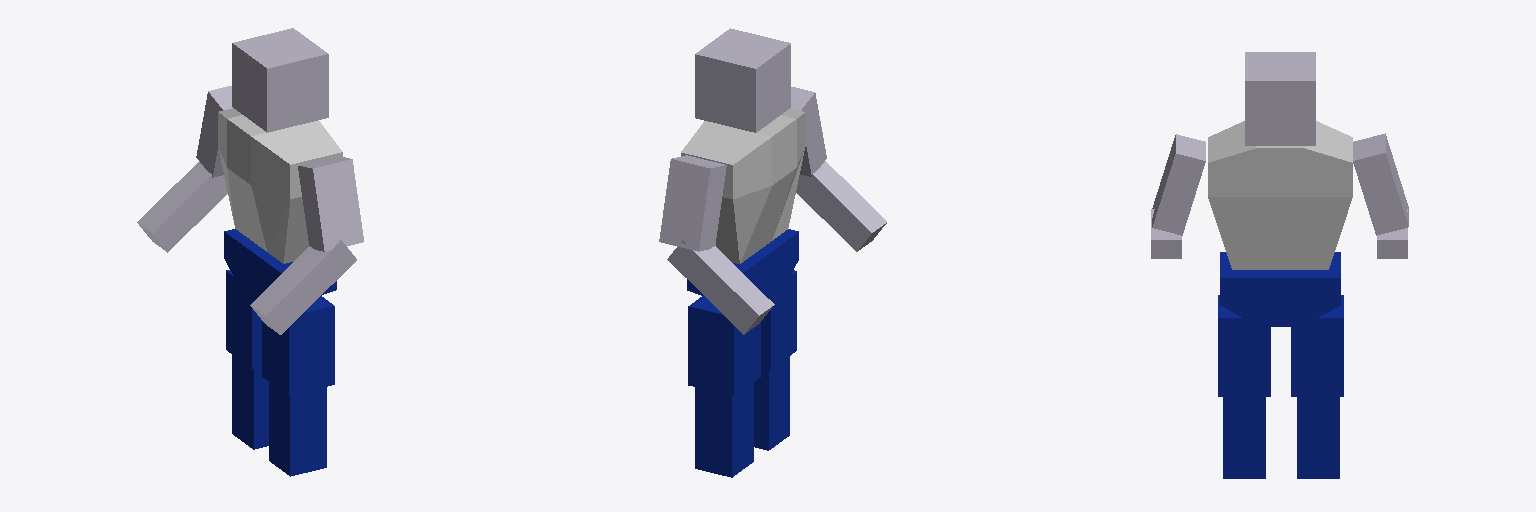
The model's file is Human.obj.
3 renders of one model, left to right at view 1: azimuth 30°, elevation 25°; view 2: azimuth 150°, elevation 25°; view 3: azimuth 270°, elevation 25°, orthographic.
Visible parts, largest first — view 1: Cube_Zombie; view 2: Cube_Zombie; view 3: Cube_Zombie.
Part boxes in pixels (x1,y1,x2,y2): Cube_Zombie: (137,28,363,476); Cube_Zombie: (659,28,886,477); Cube_Zombie: (1151,52,1408,478).
Bounding box in the file's own units: 0.5044 × 1.76 × 1.02.